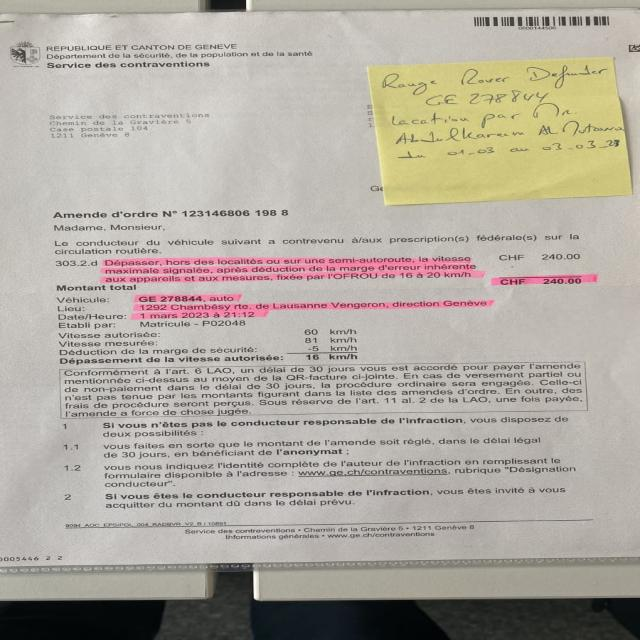paper-document-: (0, 8, 638, 566)
